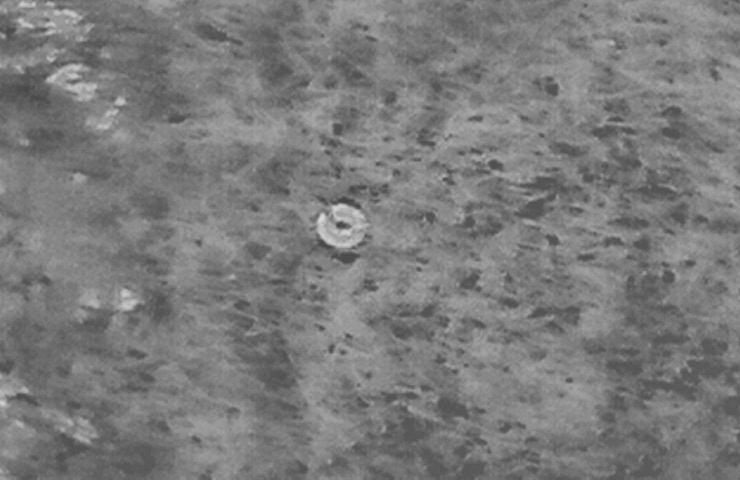landmines: (313, 197, 375, 255)
